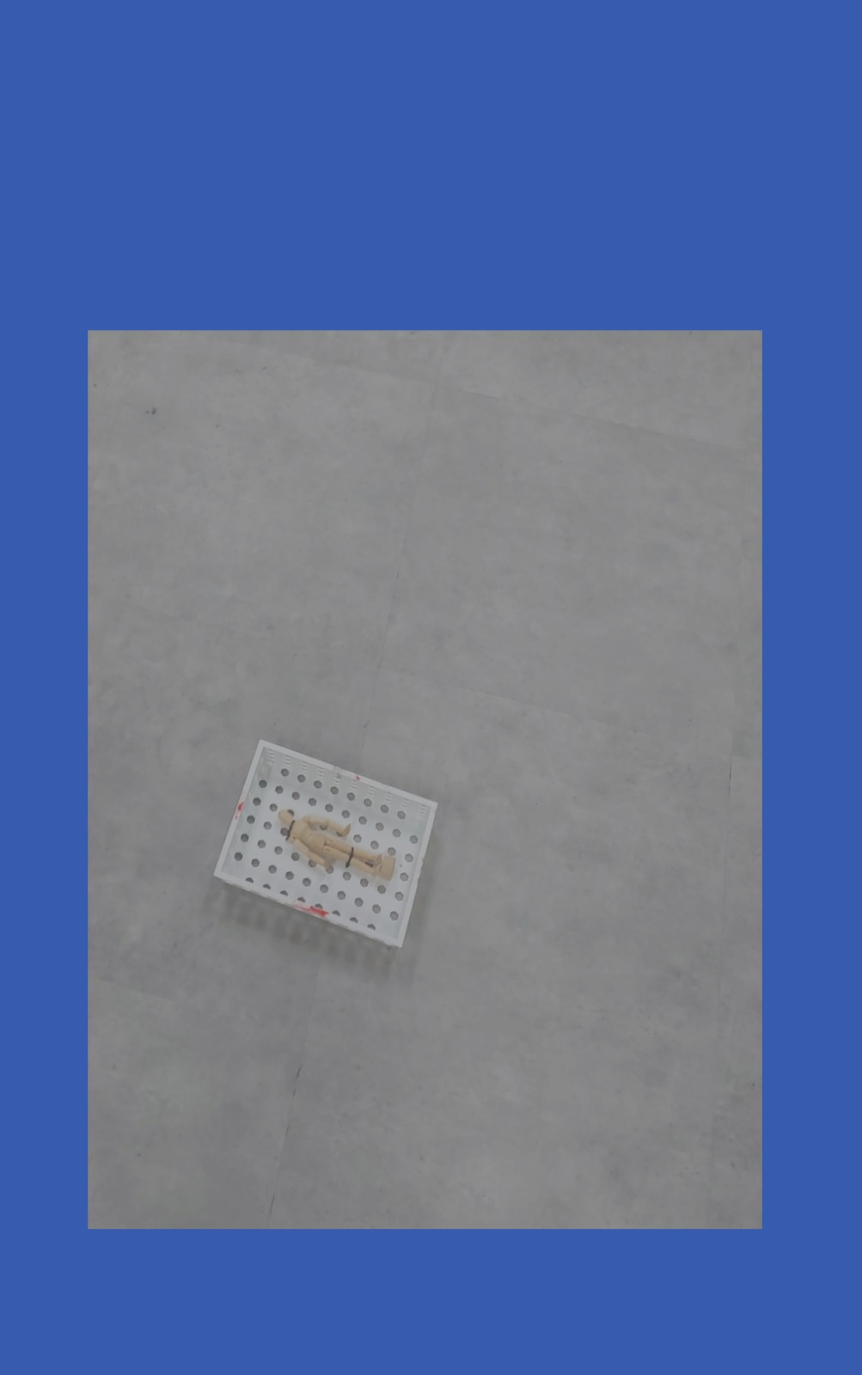basket: (203, 727, 448, 961)
mannequin: (274, 805, 399, 886)
